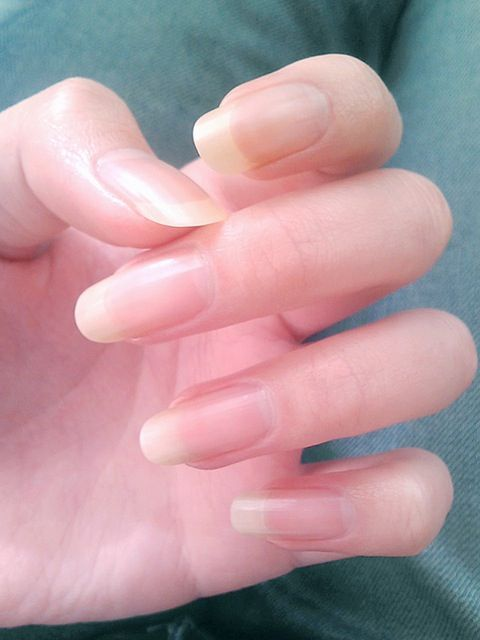nails: (61, 240, 232, 349), (185, 73, 335, 181), (130, 372, 284, 467), (85, 143, 234, 235), (223, 480, 368, 557)
